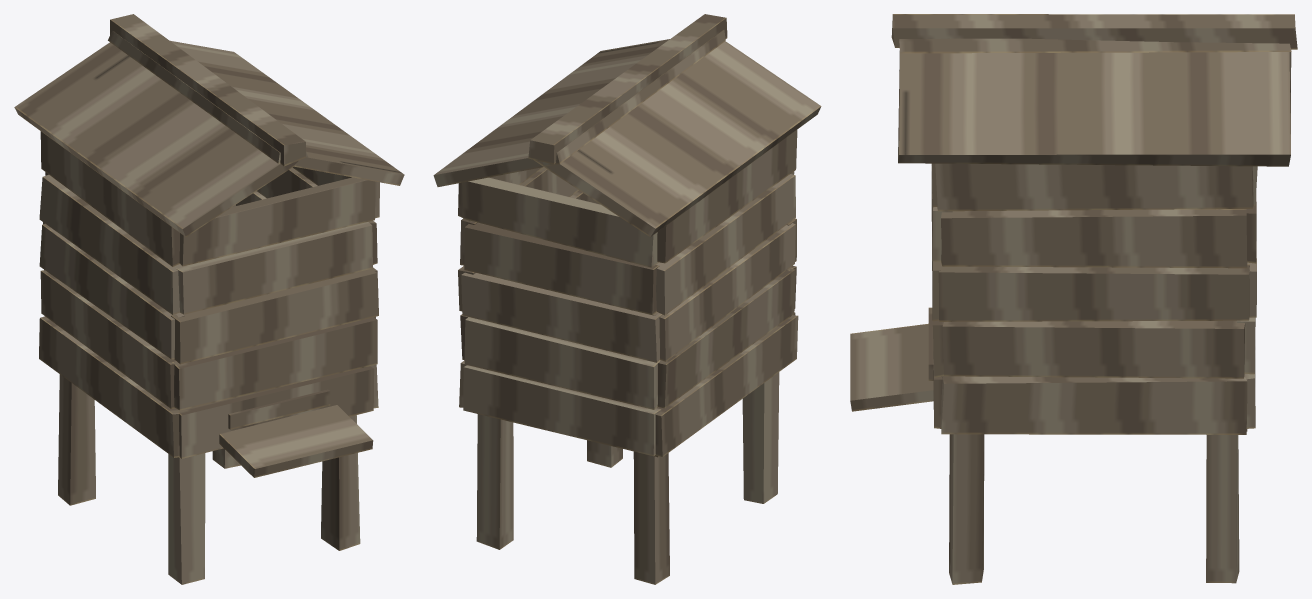
File: beehive_box.fbx
The picture shows the model from 3 angles, left to right: view 1: azimuth 30°, elevation 25°; view 2: azimuth 150°, elevation 25°; view 3: azimuth 270°, elevation 25°; orthographic projection. The views are drawn at different scales.
Parts seen in each view (by area): view 1: beehive_box; view 2: beehive_box; view 3: beehive_box.
Boxes of the visible parts, x1,y1,x2,y2 form: beehive_box: (14,14,404,584); beehive_box: (433,14,821,584); beehive_box: (850,14,1297,584).
Size of the model in its own units: 48.89 by 92.92 by 73.33.
